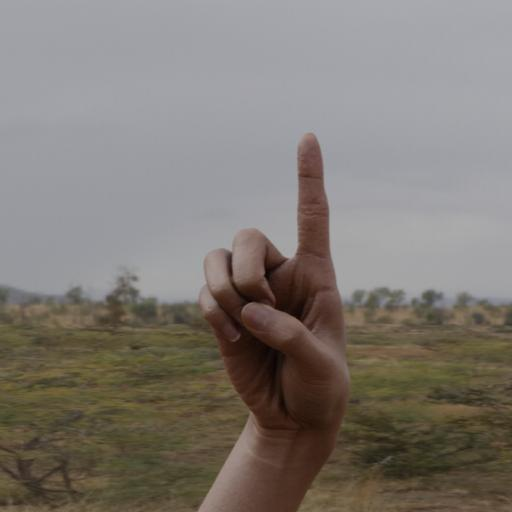D: (192, 130, 354, 436)
